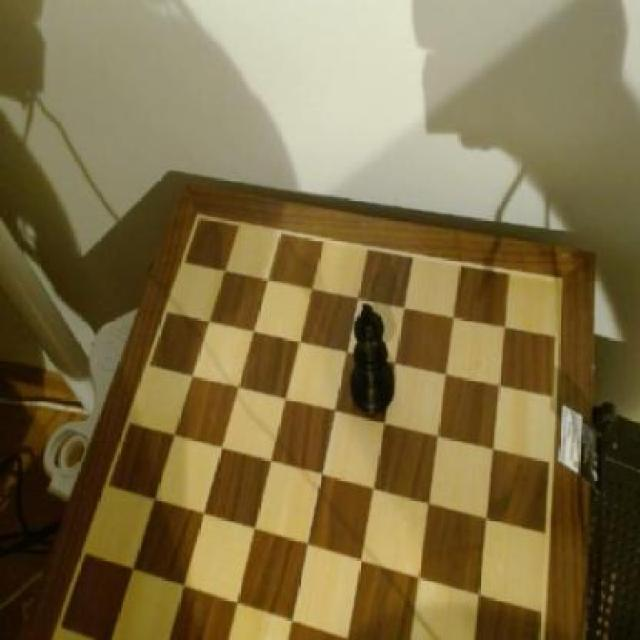black-bishop: (351, 302, 400, 420)
